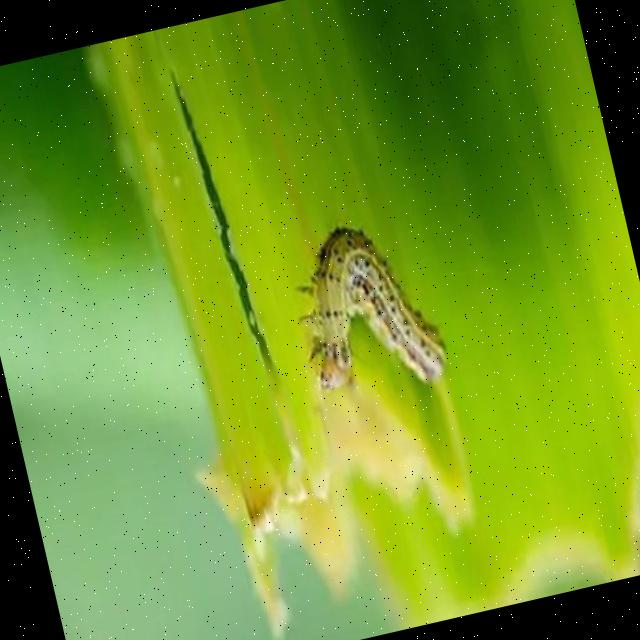worm: (280, 209, 456, 412)
